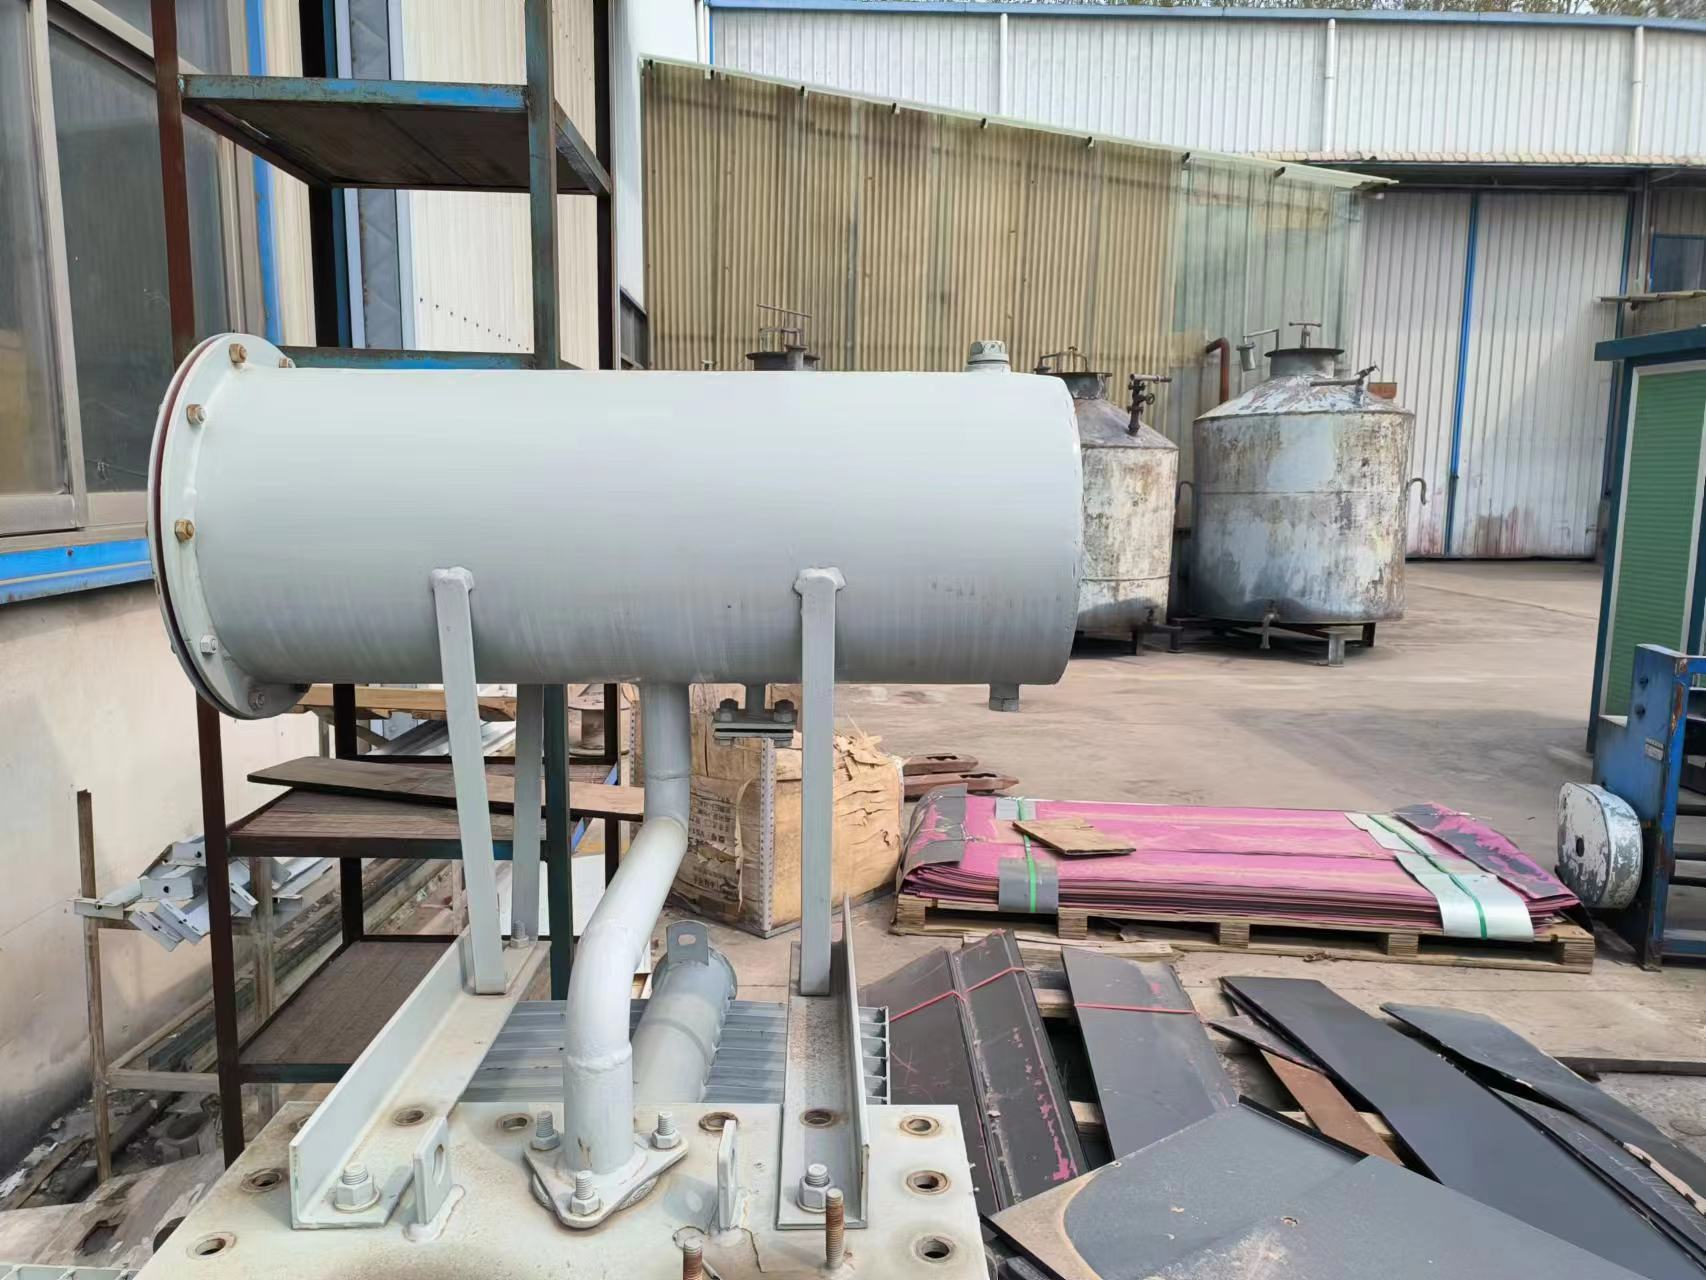Conservator: (124, 317, 1135, 994)
